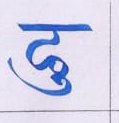u_matra: (19, 72, 77, 97)
